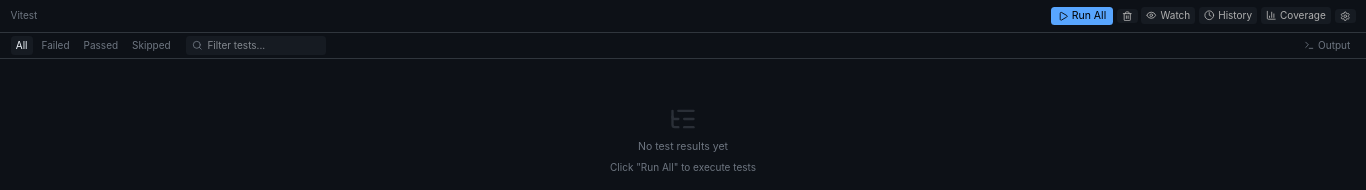
Test case: TestRunnerPanel › clicking History toggles history view
This screenshot has width=1366, height=190.
Click the button "History" at (1228, 16), box [1199,7,1257,24]
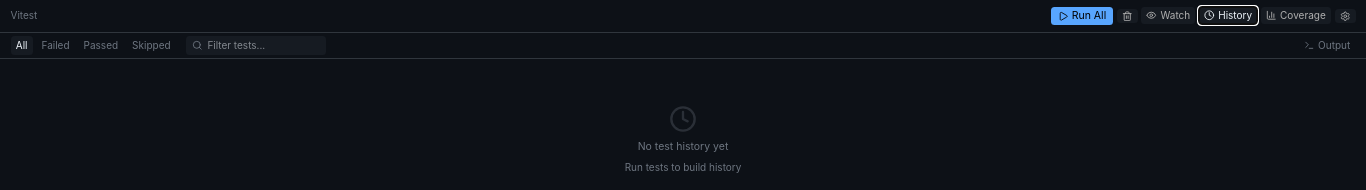
Check: the text "No test history yet" is shown, box [638,140,728,154]
Check: the text "Run tests to build history" is shown, box [625,160,741,174]
